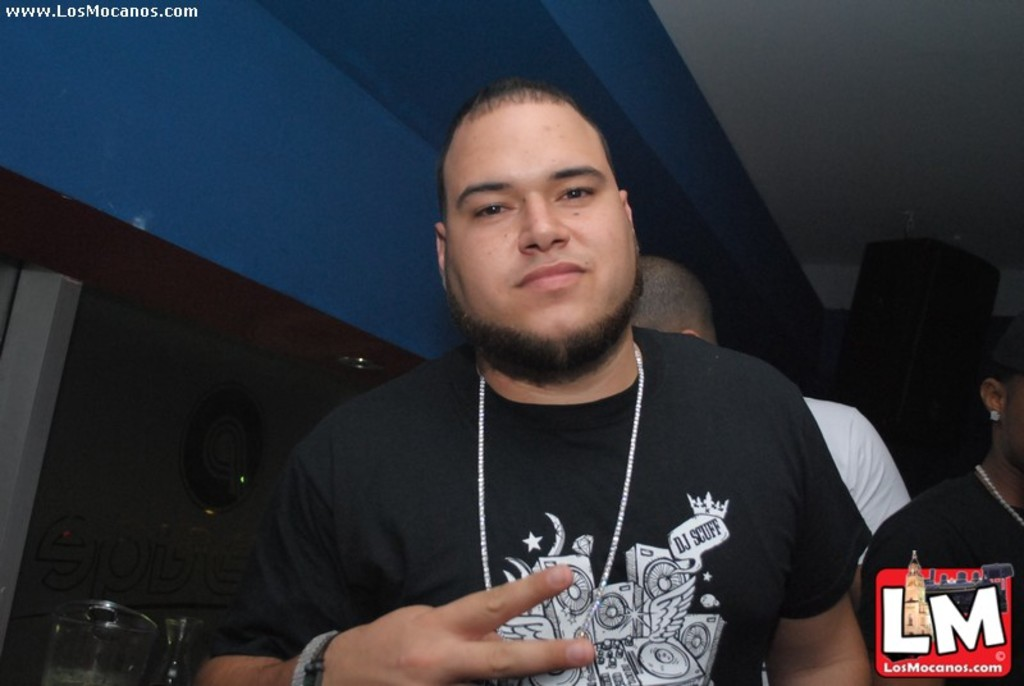Human_hand: (337, 577, 591, 676)
